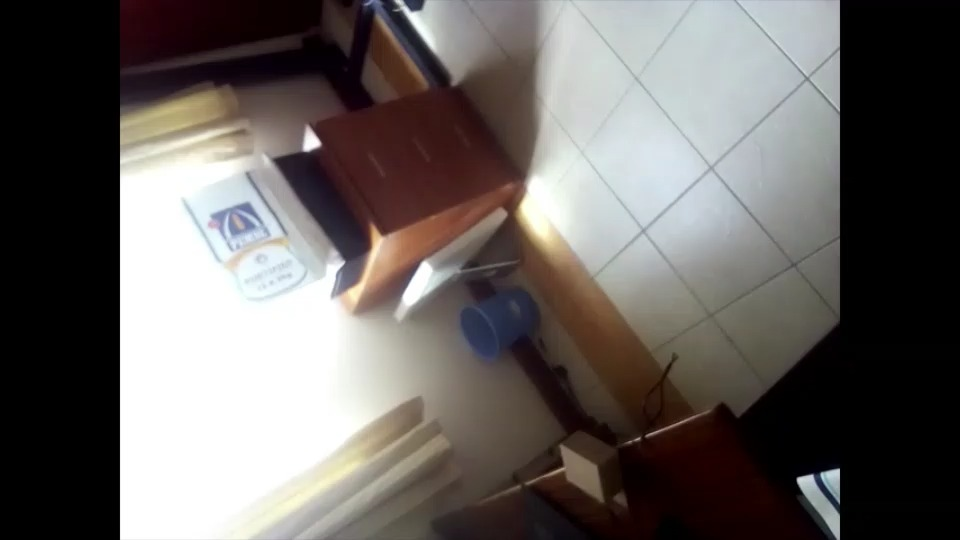wheat_flour_blue_label: (178, 169, 329, 327)
